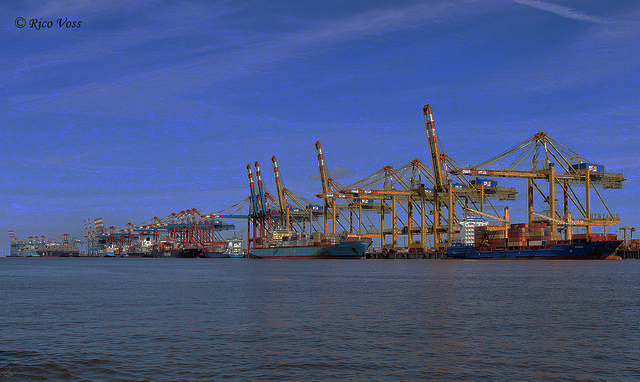container_ship: (449, 214, 624, 259), (248, 225, 366, 258), (155, 237, 200, 258), (35, 240, 78, 260), (202, 234, 240, 256), (125, 237, 153, 260)
